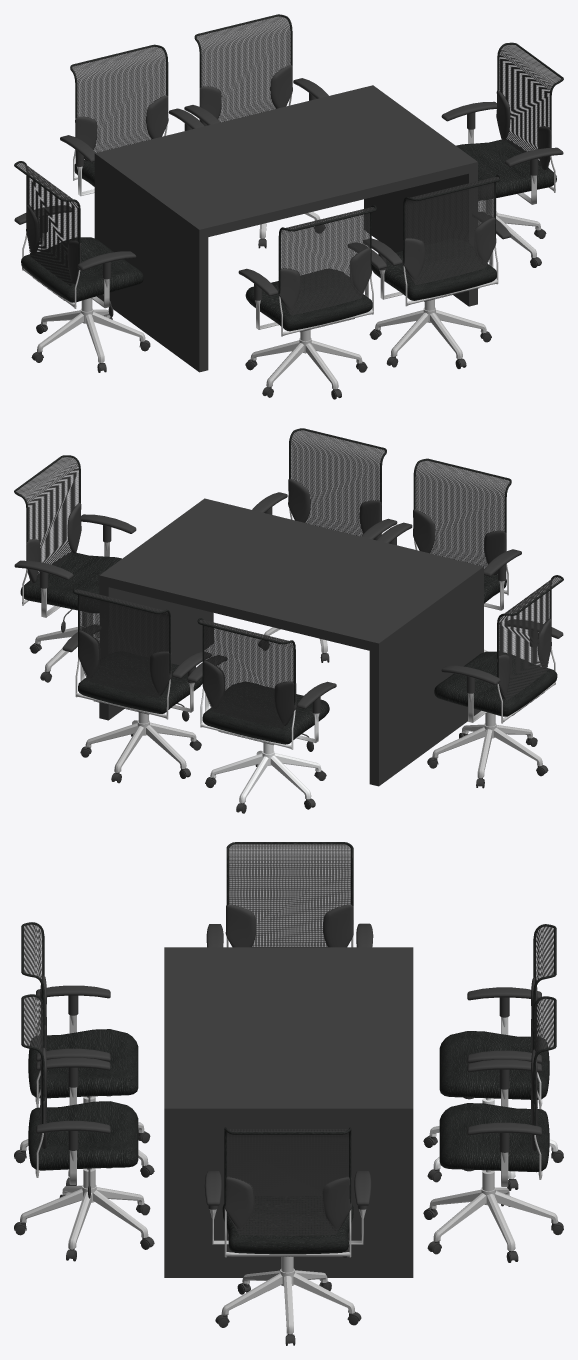
3 views of the same model, one above another, from view 1: azimuth 30°, elevation 25°; view 2: azimuth 150°, elevation 25°; view 3: azimuth 270°, elevation 25° (orthographic). The views are drawn at different scales.
Visible parts, largest first — view 1: Obj3d66-17942302-2830-127, obj_002, obj_001, obj_003, obj_006, obj_004, obj_005; view 2: Obj3d66-17942302-2830-127, obj_004, obj_005, obj_003, obj_006, obj_002, obj_001; view 3: Obj3d66-17942302-2830-127, obj_006, obj_003, obj_005, obj_001, obj_004, obj_002.
Part boxes in pixels (left/top/right/bottom): Obj3d66-17942302-2830-127: left=94, top=85, right=477, bottom=372; obj_002: left=238, top=205, right=386, bottom=399; obj_001: left=363, top=175, right=511, bottom=368; obj_003: left=14, top=161, right=150, bottom=372; obj_006: left=441, top=42, right=563, bottom=267; obj_004: left=60, top=44, right=204, bottom=196; obj_005: left=184, top=14, right=328, bottom=248; Obj3d66-17942302-2830-127: left=99, top=498, right=483, bottom=786; obj_004: left=187, top=618, right=336, bottom=813; obj_005: left=62, top=587, right=211, bottom=783; obj_003: left=427, top=575, right=563, bottom=788; obj_006: left=14, top=455, right=136, bottom=682; obj_002: left=377, top=458, right=521, bottom=652; obj_001: left=252, top=428, right=397, bottom=662; Obj3d66-17942302-2830-127: left=164, top=947, right=413, bottom=1277; obj_006: left=204, top=1127, right=371, bottom=1345; obj_003: left=206, top=842, right=373, bottom=947; obj_005: left=423, top=996, right=563, bottom=1262; obj_001: left=14, top=994, right=154, bottom=1261; obj_004: left=423, top=924, right=563, bottom=1190; obj_002: left=14, top=922, right=154, bottom=1185.
Size of the model in its own units: 2.83 by 0.9398 by 2.21.
8 materials, 2 textured.
